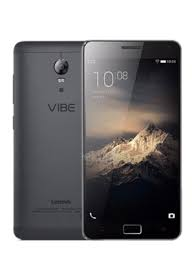lenovo: (79, 39, 182, 241)
